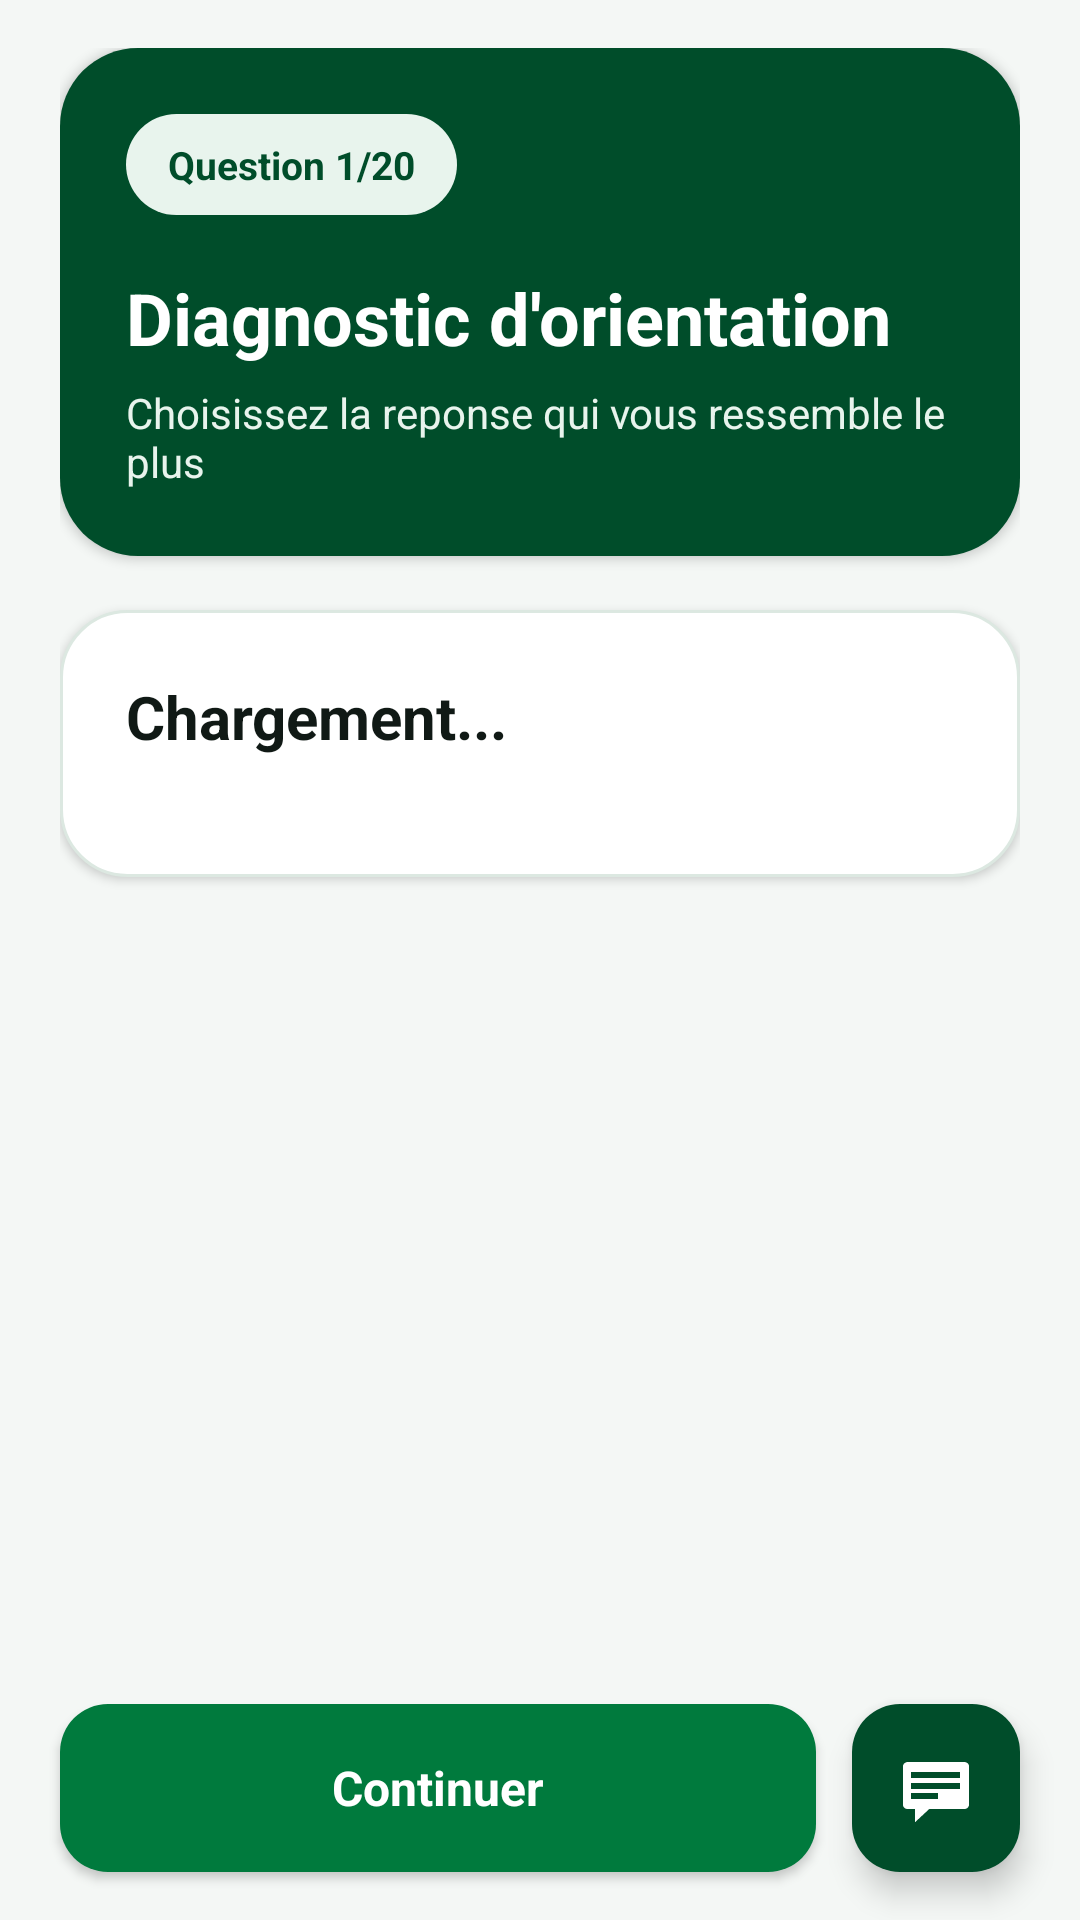

Icons on this 1080x1920 Android screen, each with its box as [x1=x1, y1=y1, x2=x2, y2=y2]:
Assistant EMSI: [x1=852, y1=1704, x2=1020, y2=1872]
